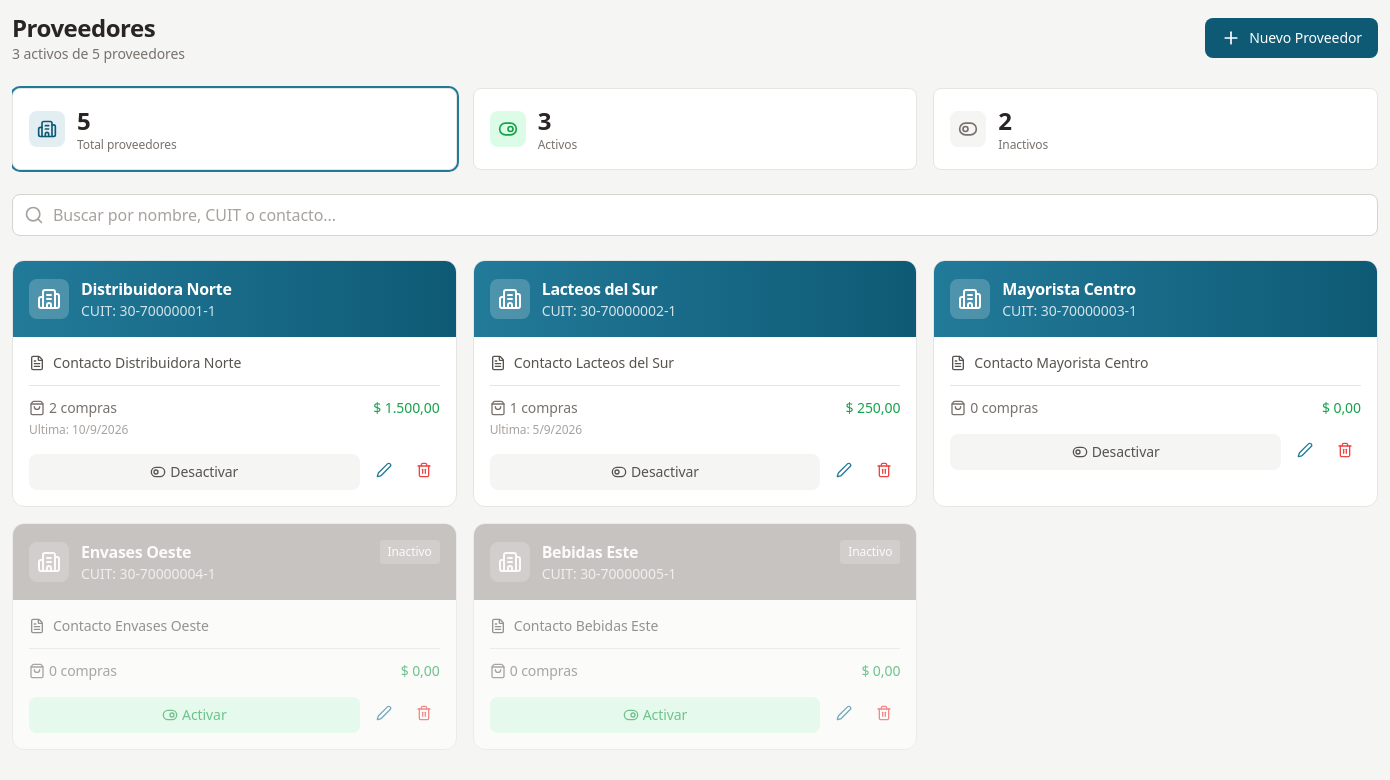
VistaProveedores — filtros › el buscador y el estado se combinan
This screenshot has width=1390, height=780.
Click the text "Inactivos" at [1023, 145], box x1=998 y1=137 x2=1048 y2=153
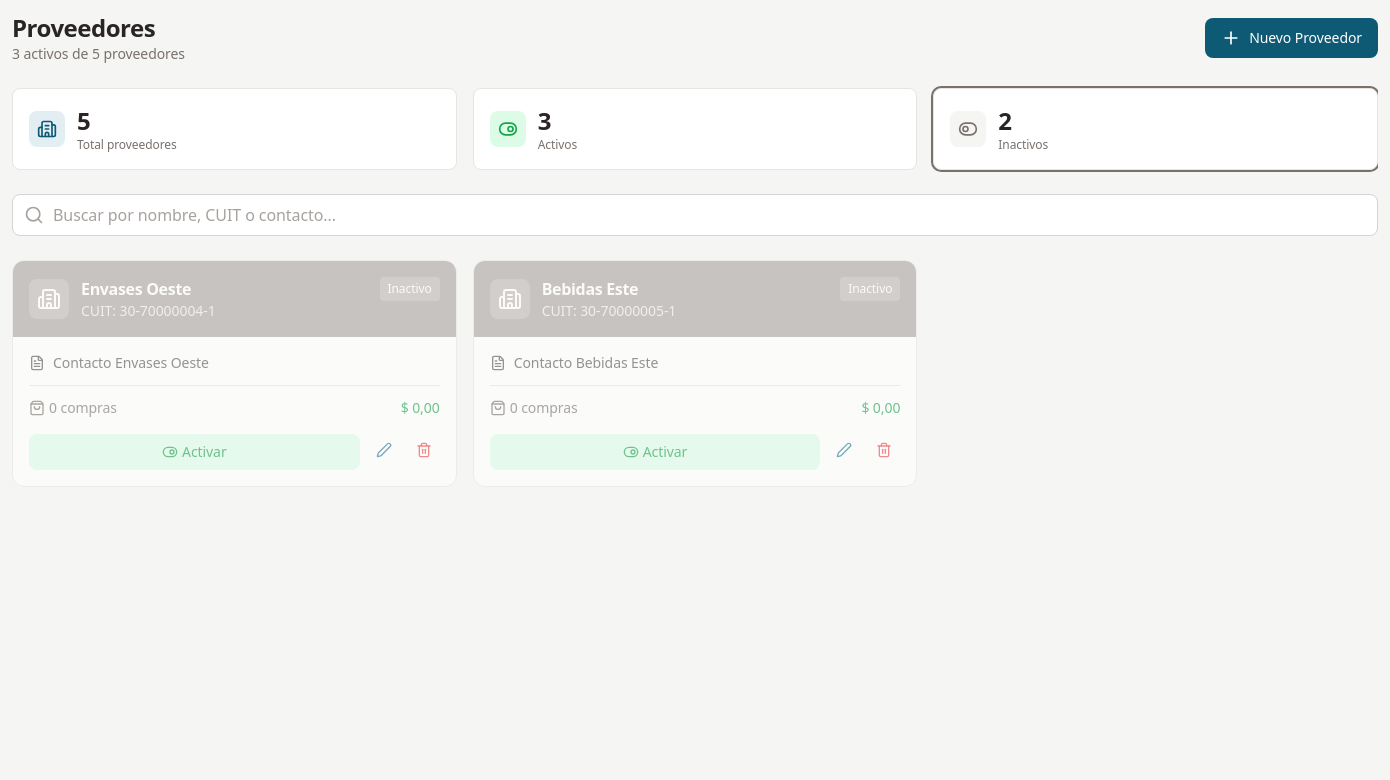
Type "bebidas" into the field at [695, 215], box x1=12 y1=194 x2=1378 y2=236
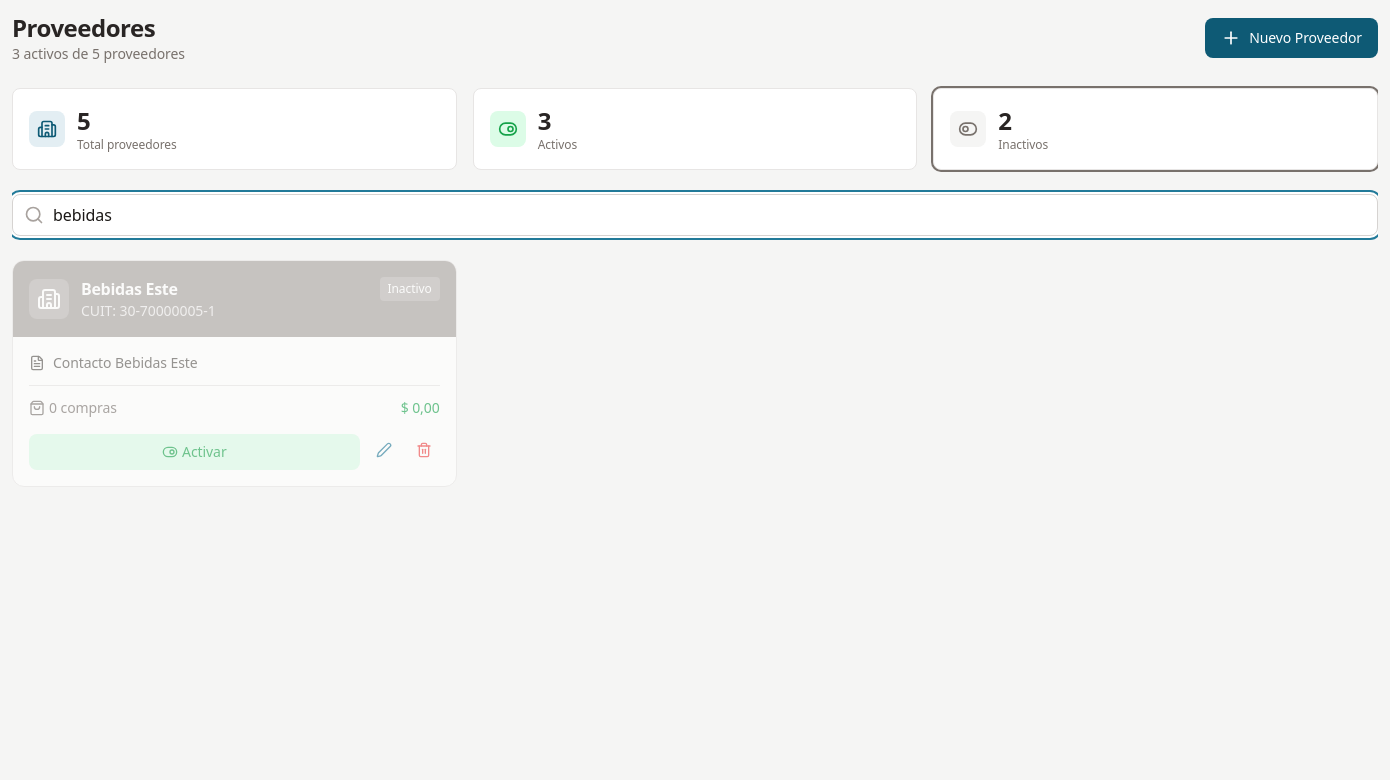
# "Norte" existe, pero es un proveedor activo: con "Inactivos" no aparece.
Replace the text in the field with "norte" at [695, 215], box x1=12 y1=194 x2=1378 y2=236
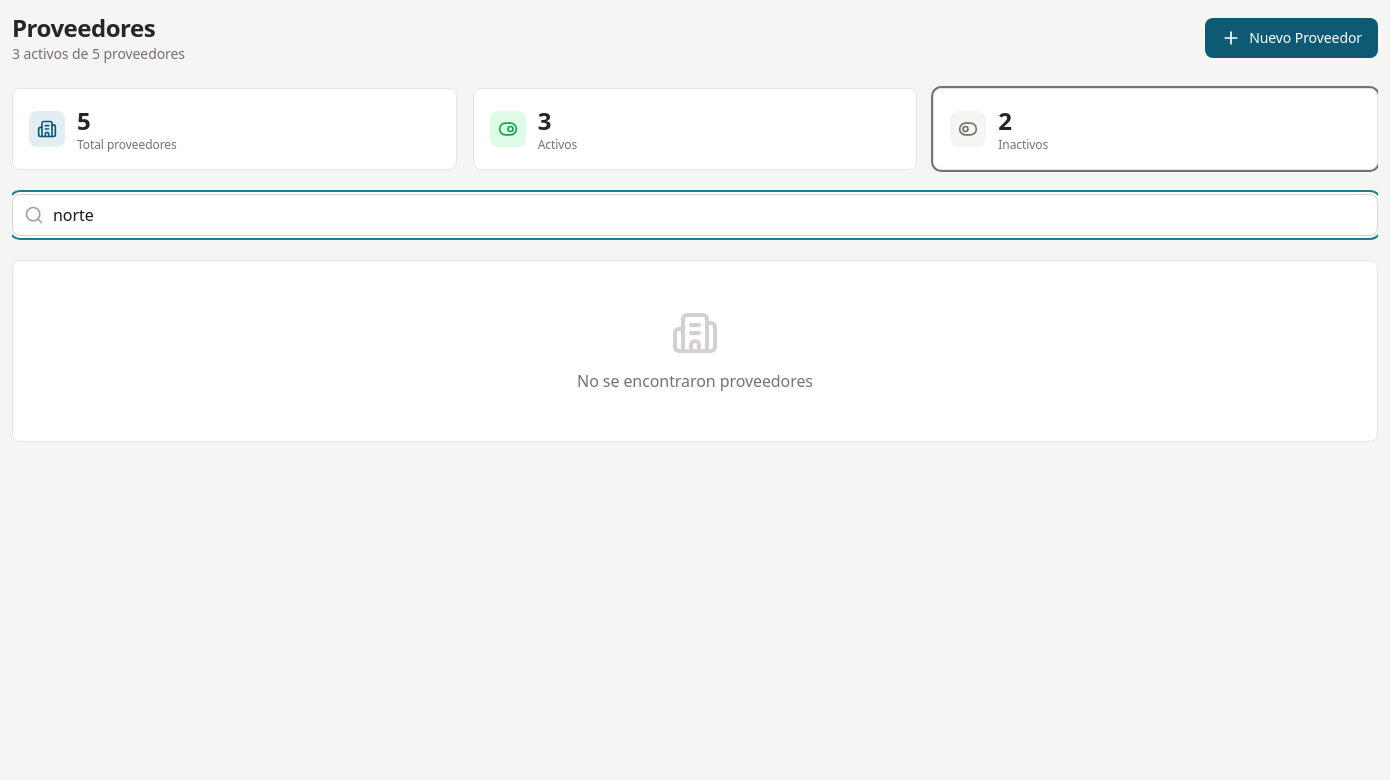
Now the text "No se encontraron proveedores" is shown, box x1=577 y1=370 x2=813 y2=392
